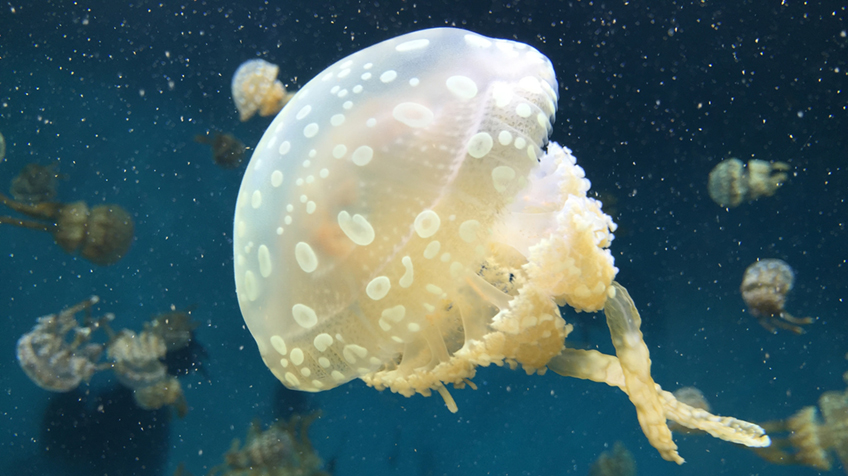jellyfish: (221, 24, 777, 469), (3, 186, 160, 274), (695, 152, 814, 211), (224, 57, 295, 111)
